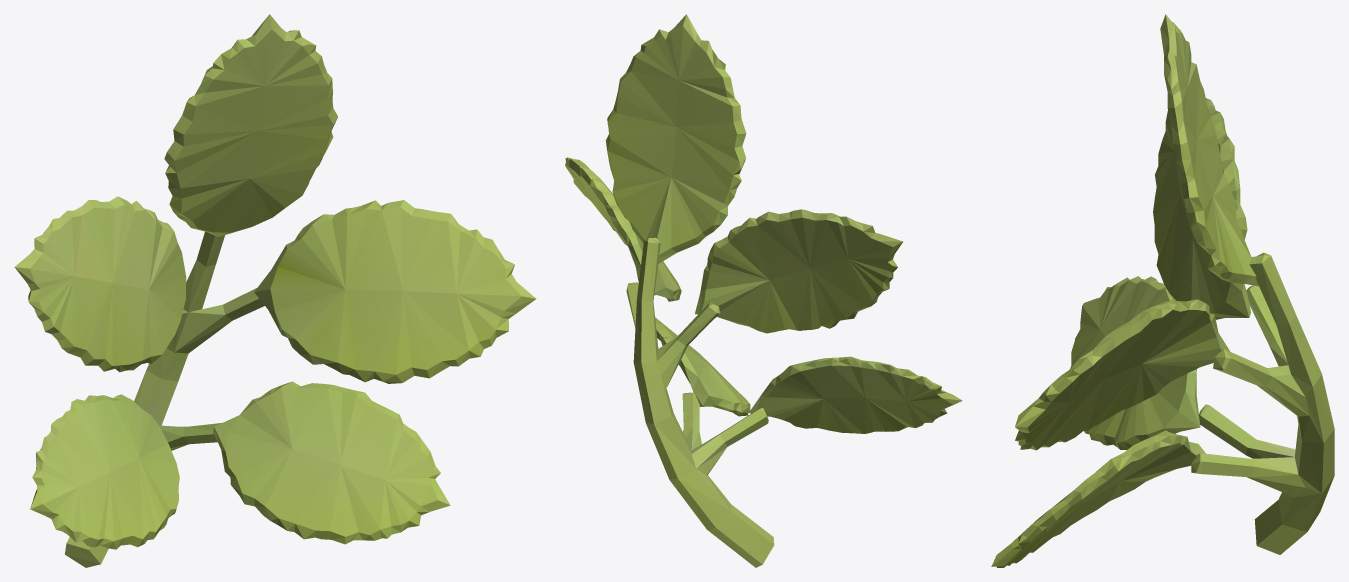
File: roseleaf.glb
3 views of the same model, side by side, from view 1: azimuth 30°, elevation 25°; view 2: azimuth 150°, elevation 25°; view 3: azimuth 270°, elevation 25° (orthographic). The views are drawn at different scales.
Parts seen in each view (by area): view 1: geometry_0; view 2: geometry_0; view 3: geometry_0.
Part boxes in pixels (x1=…): geometry_0: x1=14, y1=14, x2=536, y2=567; geometry_0: x1=565, y1=14, x2=962, y2=567; geometry_0: x1=991, y1=14, x2=1334, y2=567.
Bounding box in the file's own units: 0.1606 × 0.1812 × 0.0923.
